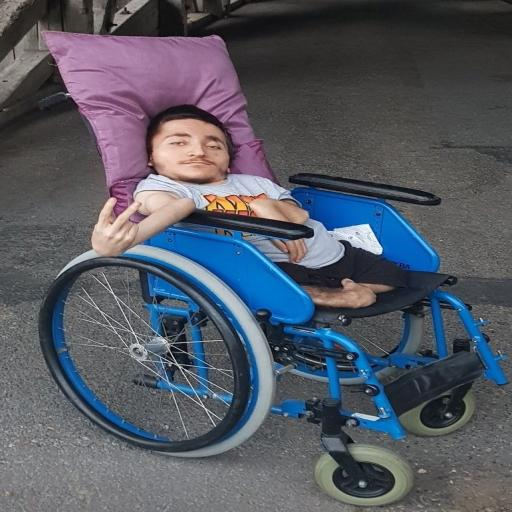crosswalk: (92, 105, 407, 308)
road: (40, 32, 508, 506)
